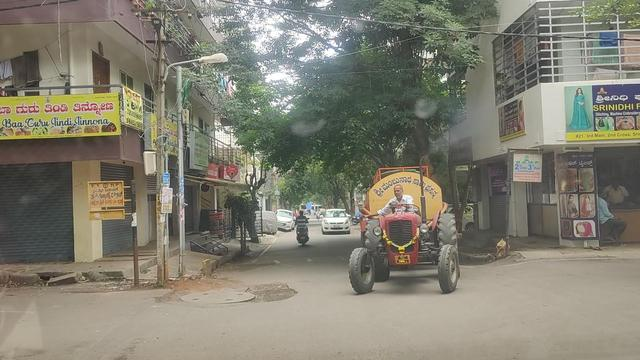HMV: (348, 170, 459, 294)
RoadDamages: (187, 284, 283, 312)
